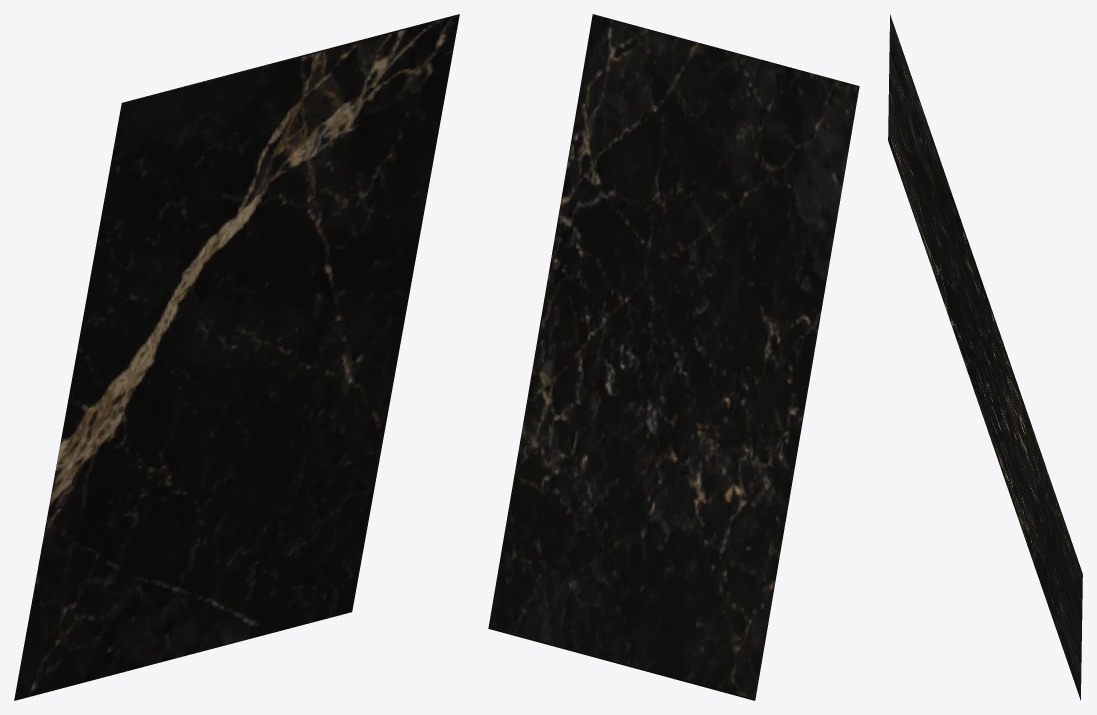
The model's file is black-and-gold.glb.
3 renders of one model, left to right at view 1: azimuth 30°, elevation 25°; view 2: azimuth 150°, elevation 25°; view 3: azimuth 270°, elevation 25°, orthographic. The views are drawn at different scales.
Parts seen in each view (by area): view 1: Cube.002; view 2: Cube.002; view 3: Cube.002.
Part boxes in pixels (bbox=[...]): Cube.002: bbox=[14, 14, 459, 700]; Cube.002: bbox=[488, 14, 859, 700]; Cube.002: bbox=[888, 14, 1082, 700].
Bounding box in the file's own units: 1.2 × 2.29 × 0.7192.
Materials: 1 (1 with a texture image).
